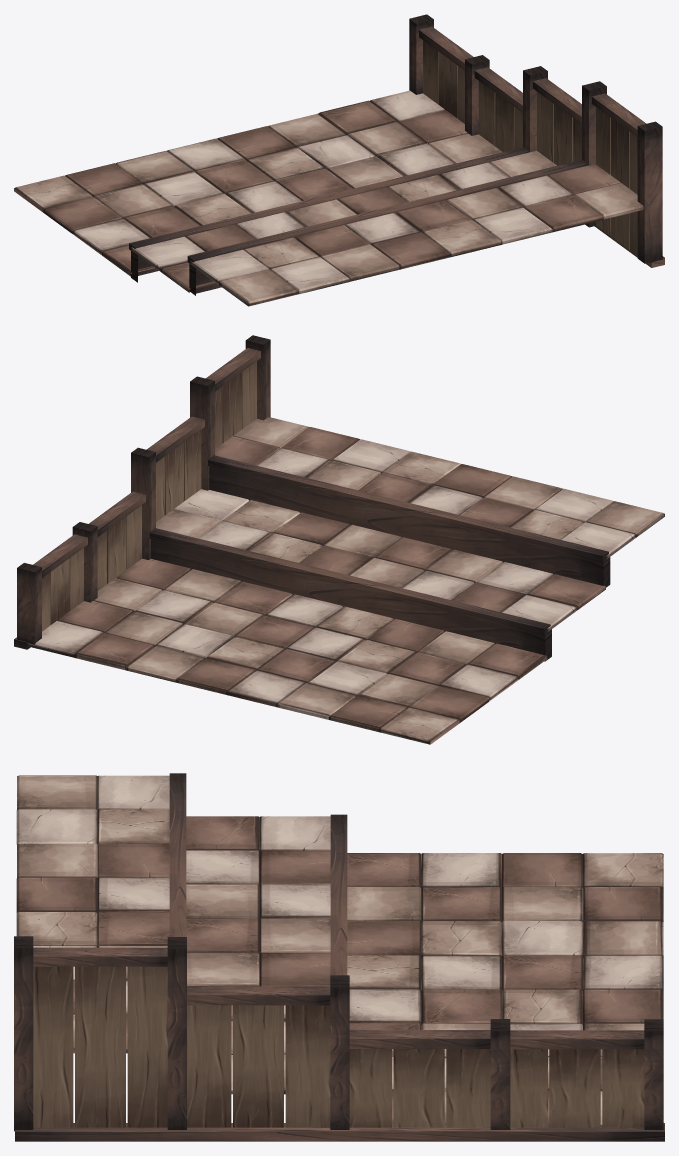
The model's file is Floor_2_Steps_Straight_Walled_Half.fbx.
3 renders of one model, top to bottom at view 1: azimuth 30°, elevation 25°; view 2: azimuth 150°, elevation 25°; view 3: azimuth 270°, elevation 25°, orthographic. The views are drawn at different scales.
Parts seen in each view (by area): view 1: Floor_Stairs_2_Steps4; view 2: Floor_Stairs_2_Steps4; view 3: Floor_Stairs_2_Steps4.
Part boxes in pixels (x1=…): Floor_Stairs_2_Steps4: x1=14, y1=14, x2=664, y2=306; Floor_Stairs_2_Steps4: x1=14, y1=335, x2=664, y2=744; Floor_Stairs_2_Steps4: x1=14, y1=773, x2=664, y2=1141.
Size of the model in its own units: 0.6147 by 0.1965 by 0.6045.
